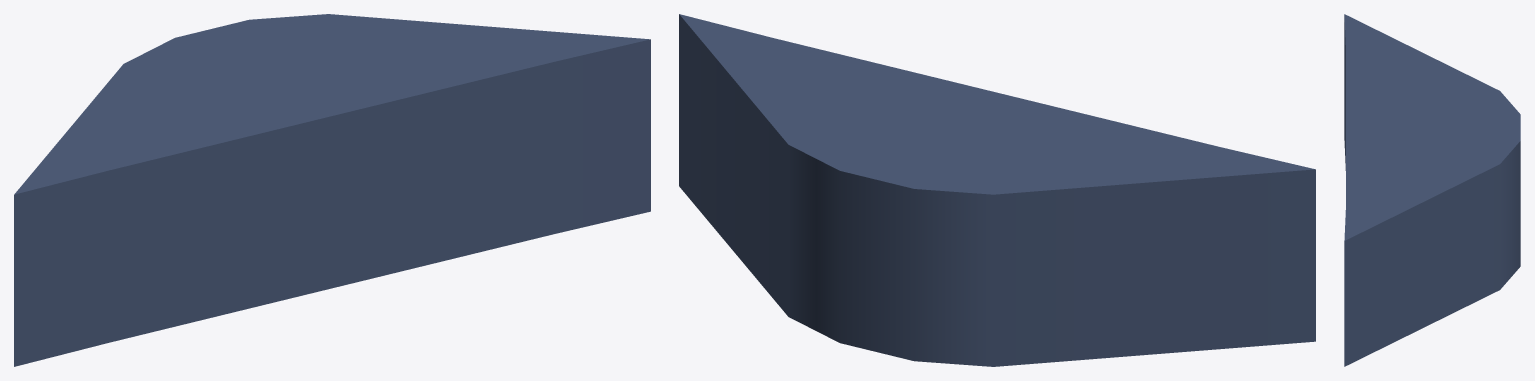
Rendered from Ring_03_Bumper_01.fbx.
3 views of the same model, side by side, from view 1: azimuth 30°, elevation 25°; view 2: azimuth 150°, elevation 25°; view 3: azimuth 270°, elevation 25° (orthographic). The views are drawn at different scales.
Parts seen in each view (by area): view 1: Ring_03_Bumper_01; view 2: Ring_03_Bumper_01; view 3: Ring_03_Bumper_01.
Boxes of the visible parts, x1,y1,x2,y2 form: Ring_03_Bumper_01: (14,14,650,366); Ring_03_Bumper_01: (679,14,1315,366); Ring_03_Bumper_01: (1344,14,1520,366).
Size of the model in its own units: 30.78 by 7.96 by 10.09.
